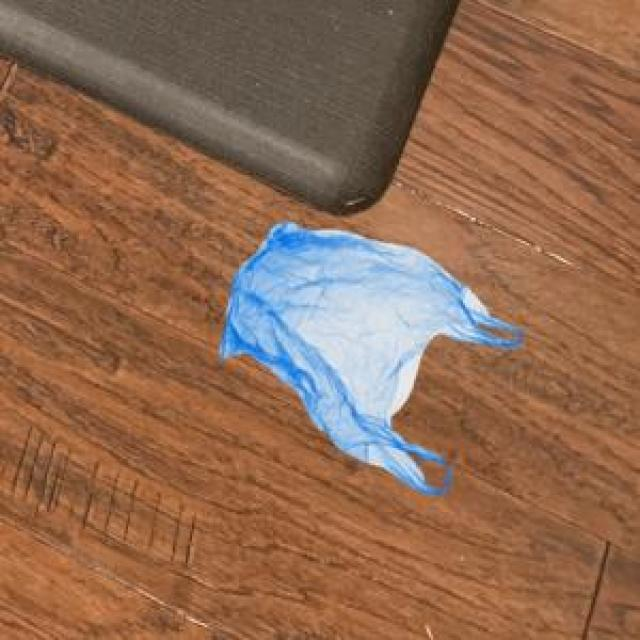waste: (220, 224, 521, 495)
